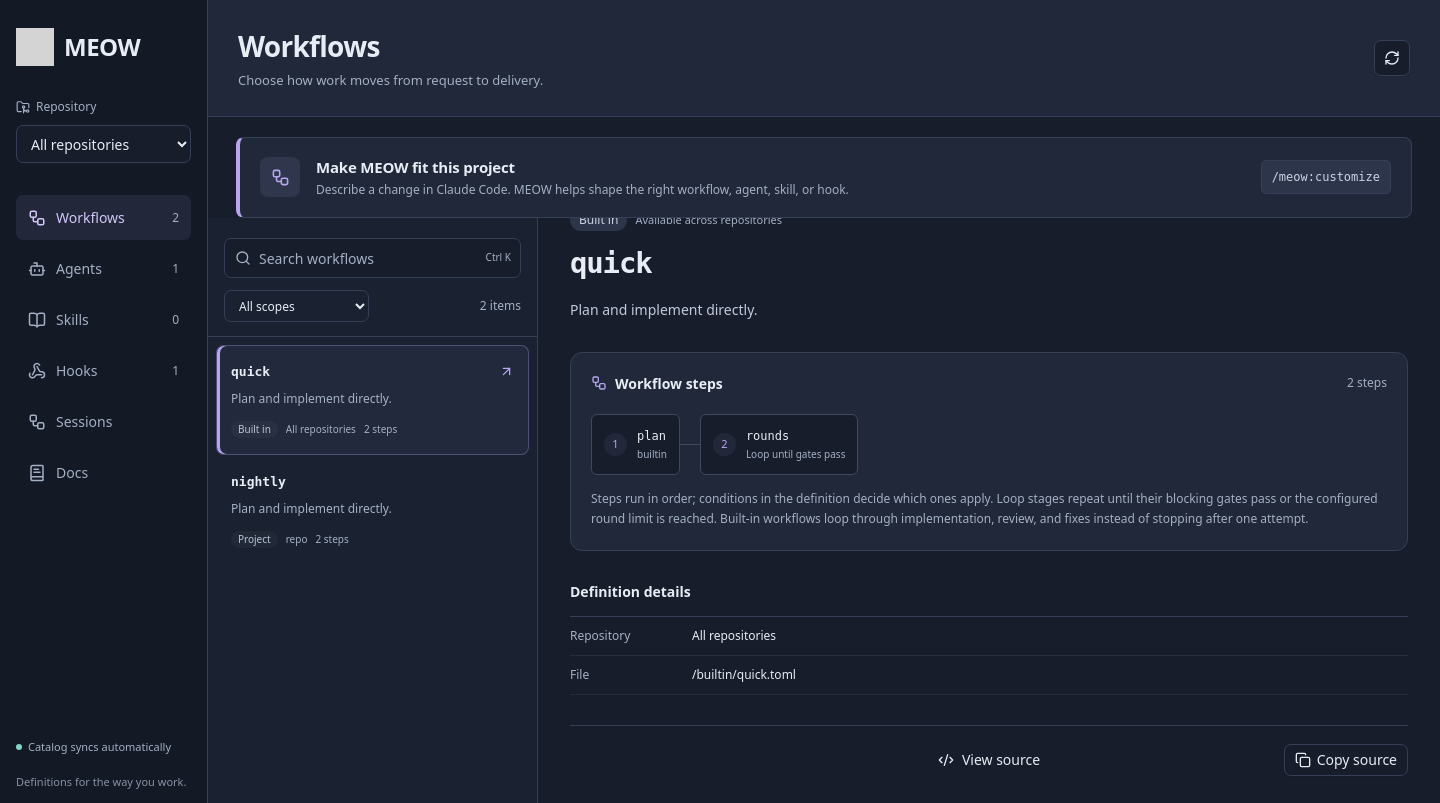
clipboard errors give a recovery message
This screenshot has width=1440, height=803.
(page scrolled)
Expected: the heading "quick" is shown, [570, 246, 652, 280]
Click the button "Copy source" at [1346, 760], box [1284, 744, 1408, 776]
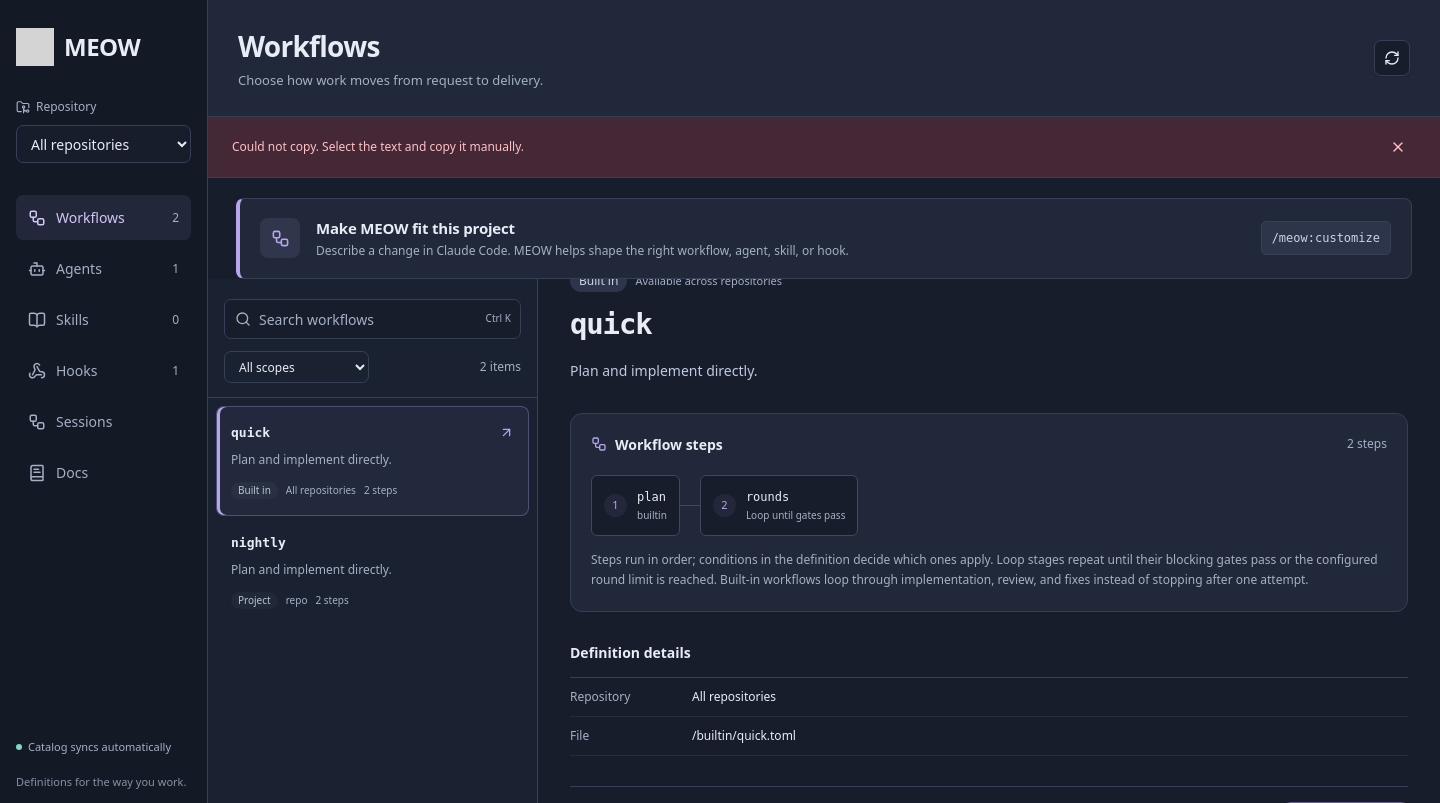
Result: the message shows "Select the text and copy it manually" at [232, 138, 524, 154]
